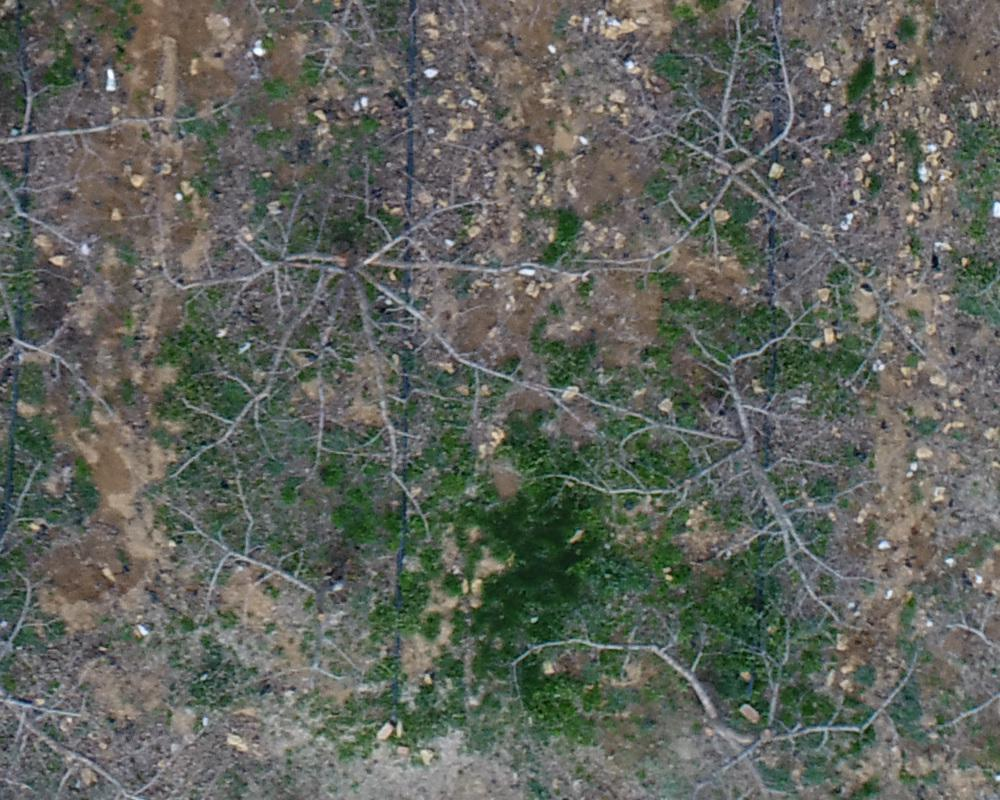apple: (141, 169, 616, 516), (521, 310, 909, 648), (542, 10, 910, 330), (489, 610, 939, 790), (139, 457, 392, 723), (10, 36, 233, 315)
